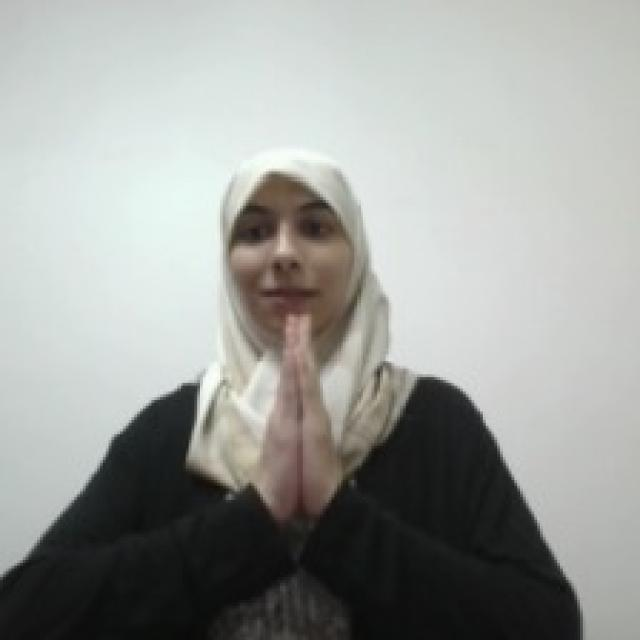sorry: (256, 308, 346, 522)
